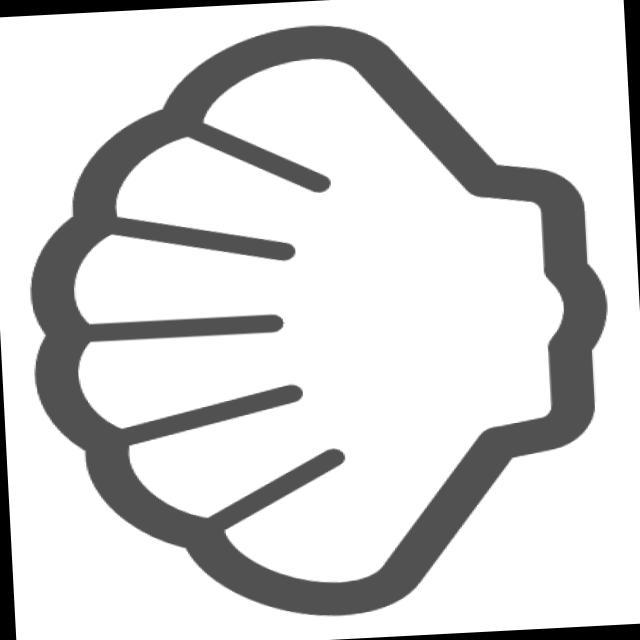shell: (2, 4, 637, 640)
